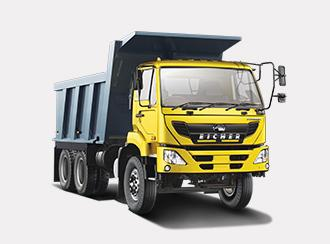truck: (52, 30, 286, 214)
